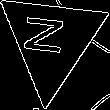N_E: (27, 19, 76, 63)
